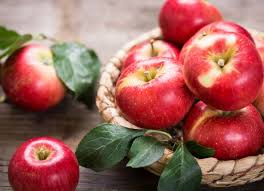apple: (113, 58, 193, 126), (185, 38, 259, 103), (10, 43, 79, 110), (8, 138, 79, 191), (191, 107, 262, 158), (159, 3, 228, 47), (127, 38, 184, 76)
